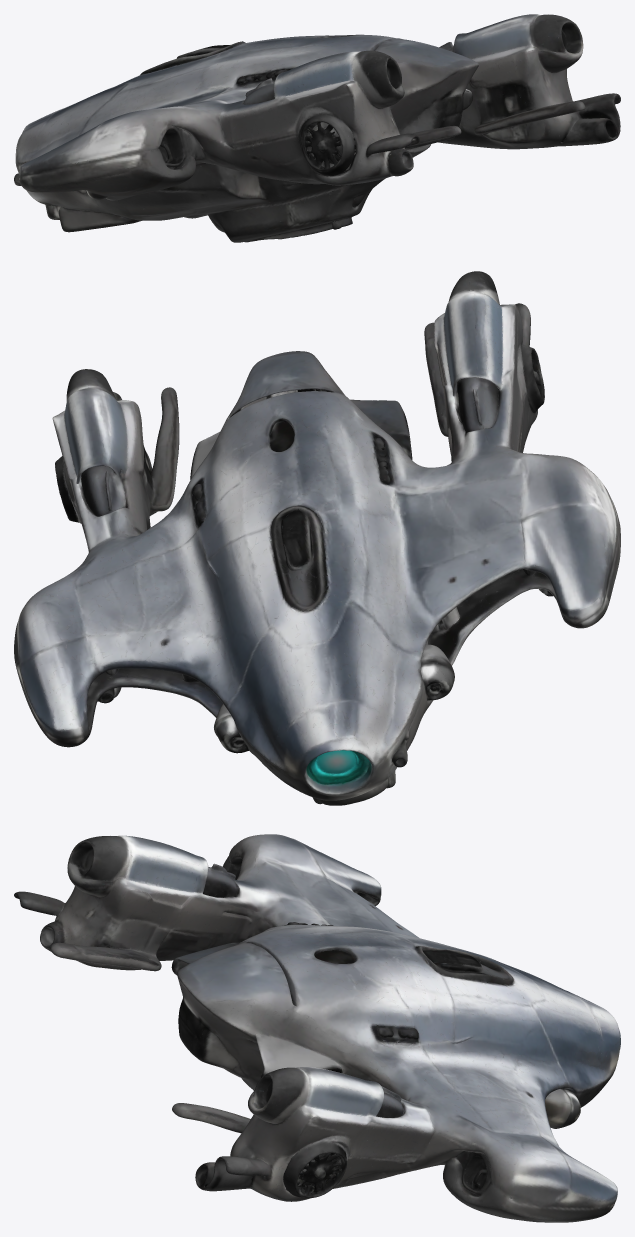
Rendered from drone.glb.
3 renders of one model, top to bottom at view 1: azimuth 30°, elevation 25°; view 2: azimuth 150°, elevation 25°; view 3: azimuth 270°, elevation 25°, orthographic. The views are drawn at different scales.
Bounding box in the file's own units: 0.946 × 0.5121 × 0.863.
Materials: 1 (1 with a texture image).
